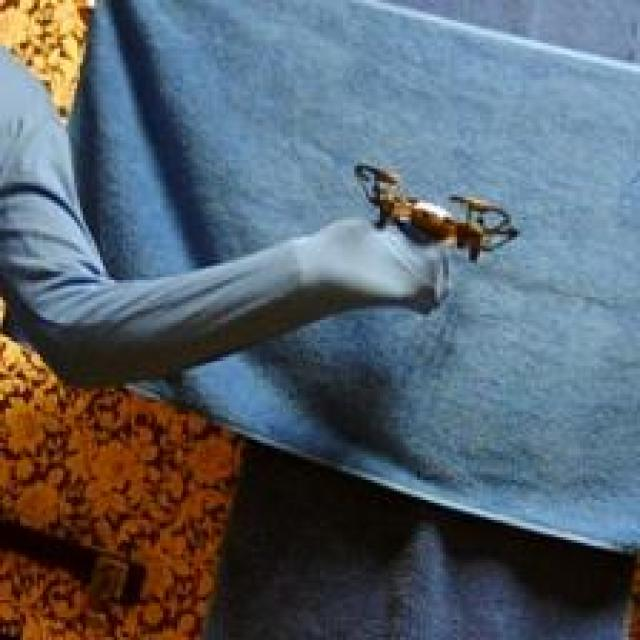drone: (358, 160, 518, 266)
